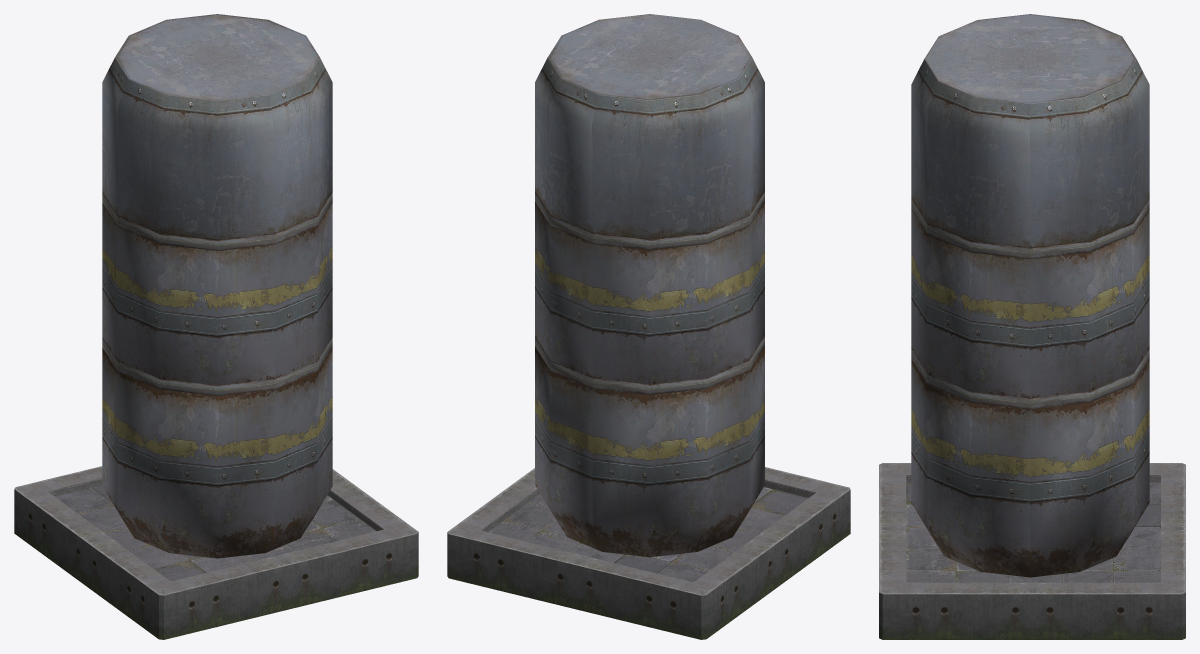
The model's file is Building_FdcDgz01_lod1.glb.
3 views of the same model, side by side, from view 1: azimuth 30°, elevation 25°; view 2: azimuth 150°, elevation 25°; view 3: azimuth 270°, elevation 25° (orthographic). The views are drawn at different scales.
Visible parts, largest first — view 1: xiutz_fdc_dgz_01_lod1_0; view 2: xiutz_fdc_dgz_01_lod1_0; view 3: xiutz_fdc_dgz_01_lod1_0.
Part boxes in pixels (bbox=[...]): xiutz_fdc_dgz_01_lod1_0: bbox=[14, 14, 418, 639]; xiutz_fdc_dgz_01_lod1_0: bbox=[447, 14, 850, 639]; xiutz_fdc_dgz_01_lod1_0: bbox=[879, 14, 1185, 639].
Bounding box in the file's own units: 16.58 × 30.39 × 16.4.
Materials: 3 (3 with a texture image).
